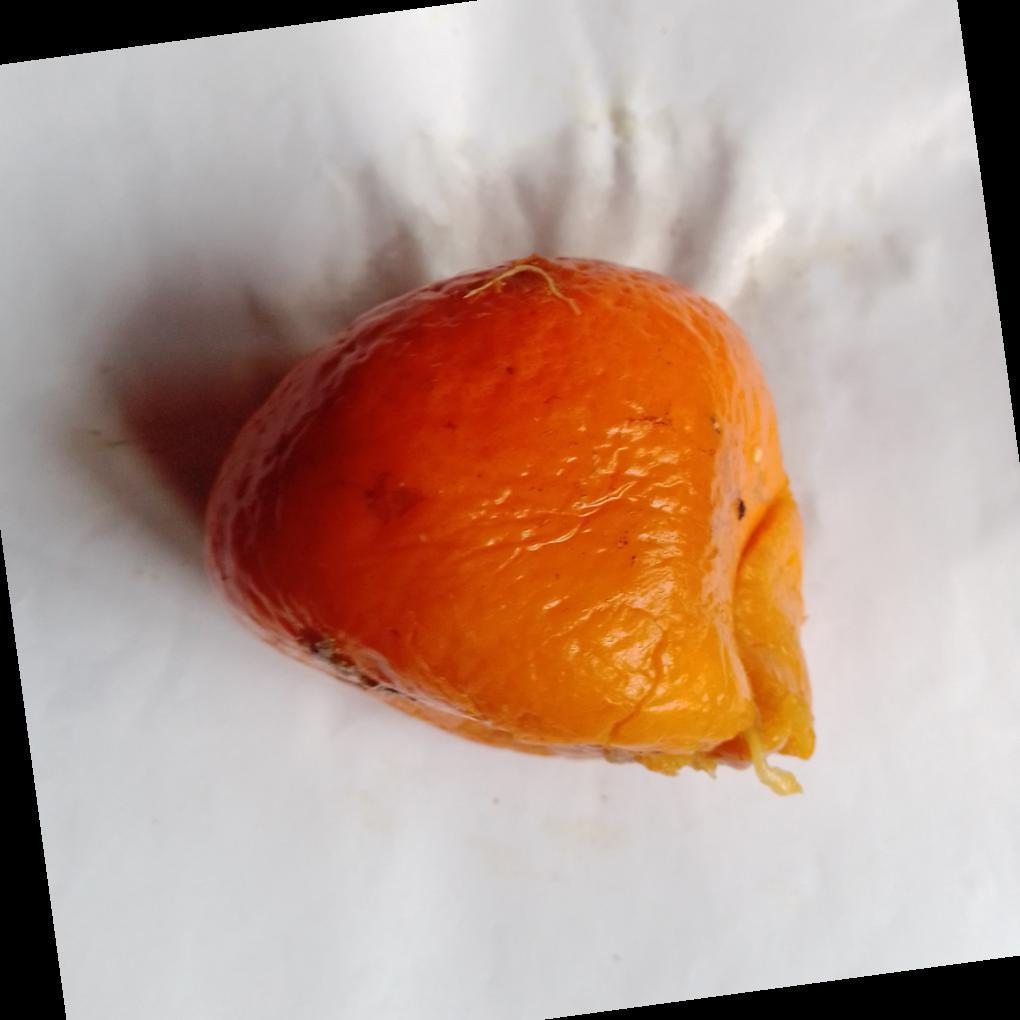FreshOrange: (201, 256, 819, 798)
